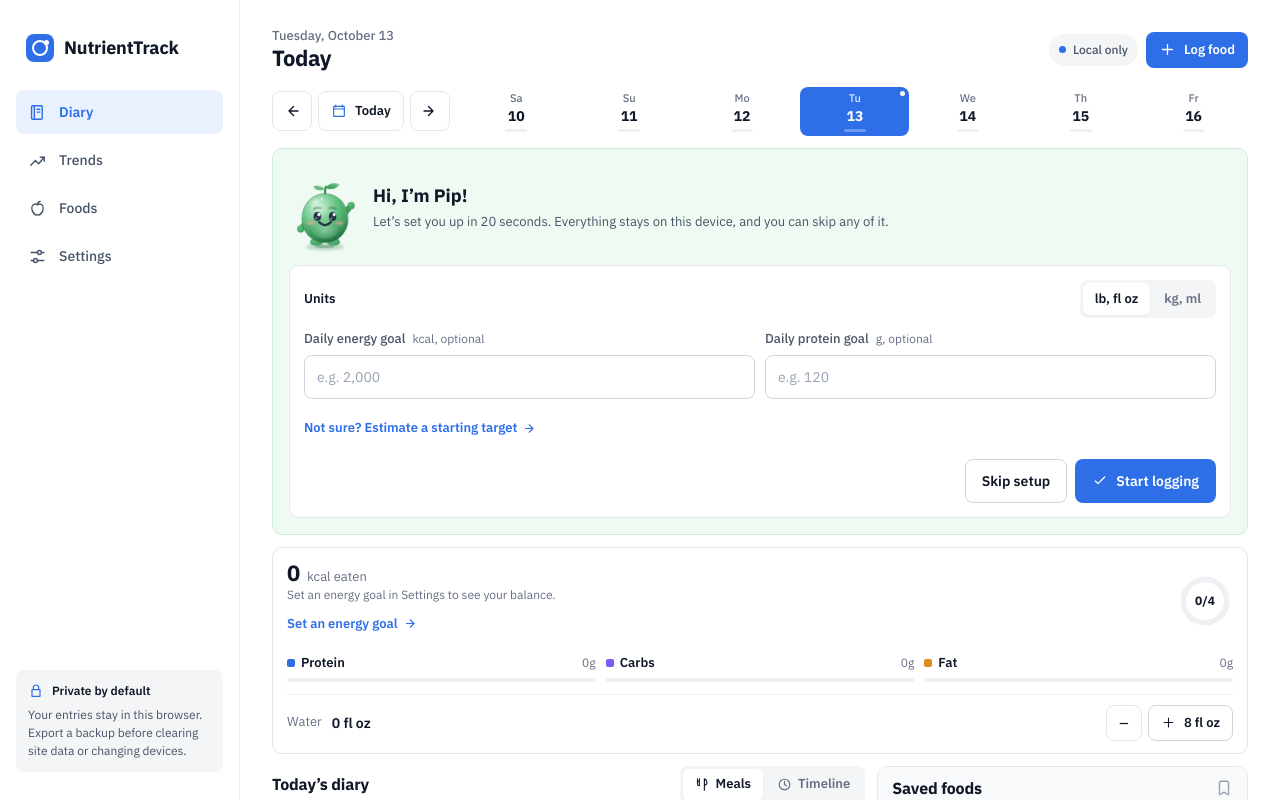
Trends: expenditure card › says there is not enough data, with the reason, for an empty diary
This screenshot has width=1280, height=800.
What coordinates should you click on to do the following:
click the button "Trends"
I would click on:
 (120, 160)
Its box is [16,138,223,182].
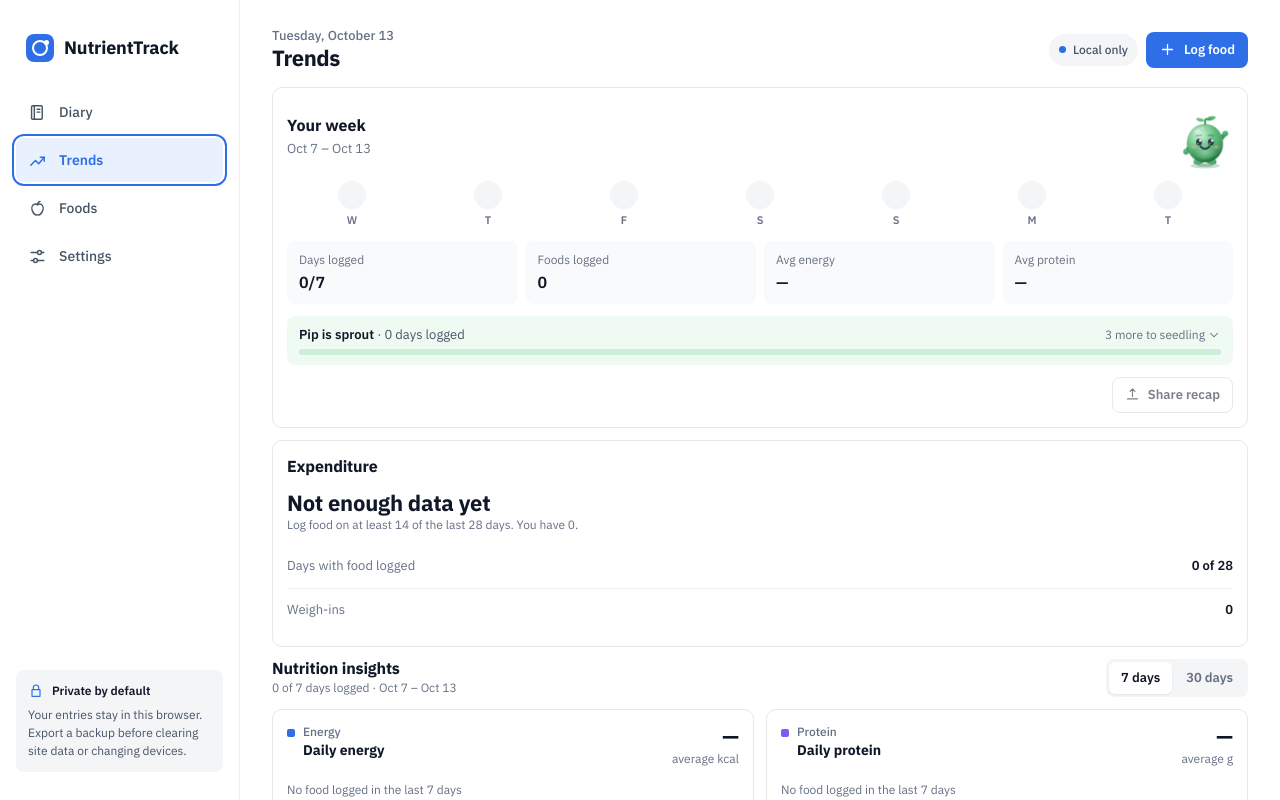
Check: the heading "Expenditure" is shown, box [287,455,378,478]
Check: the text "Not enough data yet" is shown, box [287,488,490,517]
Check: the text "Log food on at least 14 of the last 28 days. You have 0." is shown, box [287,517,578,532]
